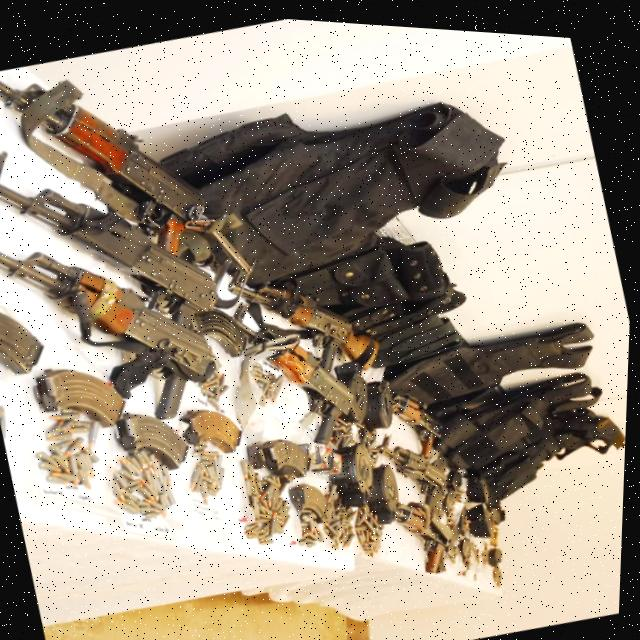firearm: (0, 165, 239, 459), (0, 106, 236, 372), (0, 26, 225, 300), (224, 248, 389, 392), (266, 321, 370, 449), (375, 421, 459, 503), (390, 483, 469, 564), (388, 378, 451, 446)
